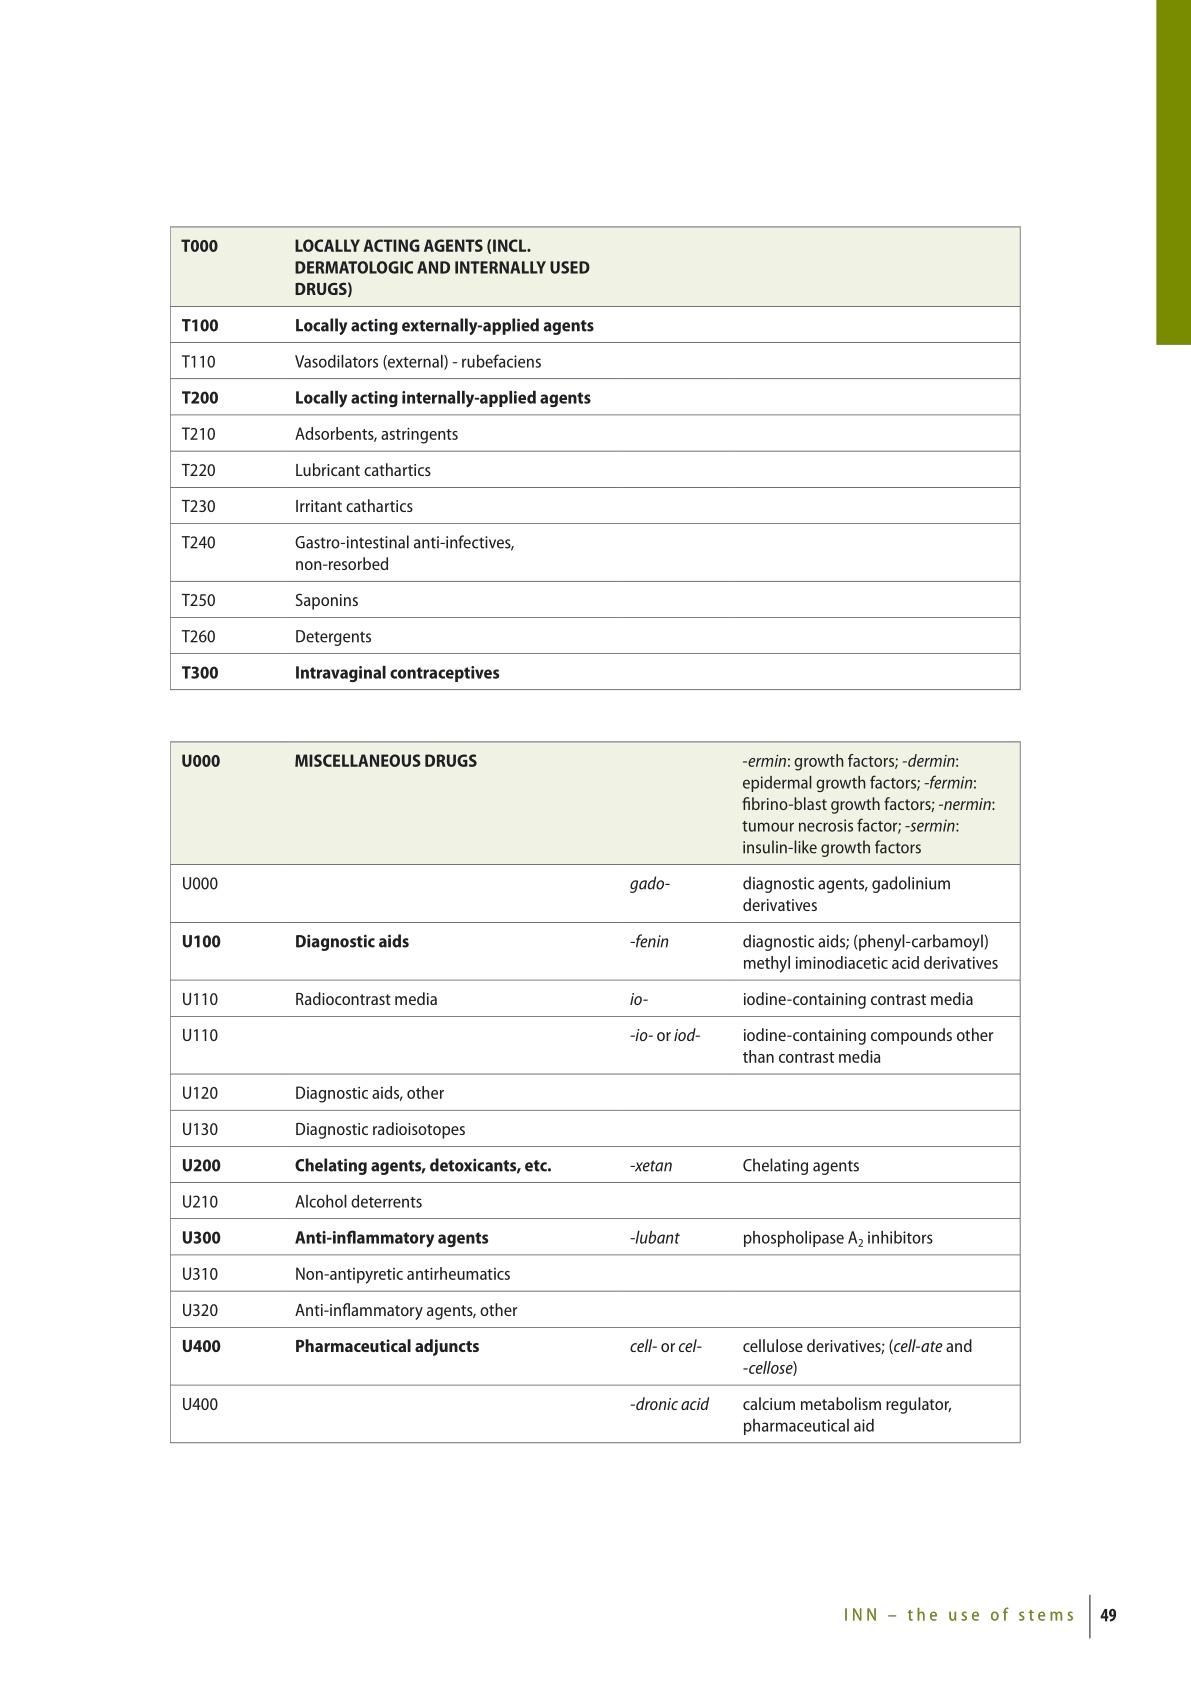partial_lined: (169, 740, 1022, 1444), (170, 225, 1021, 691)
